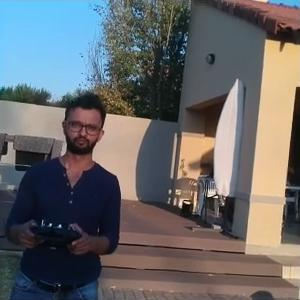follow: (6, 94, 130, 298)
